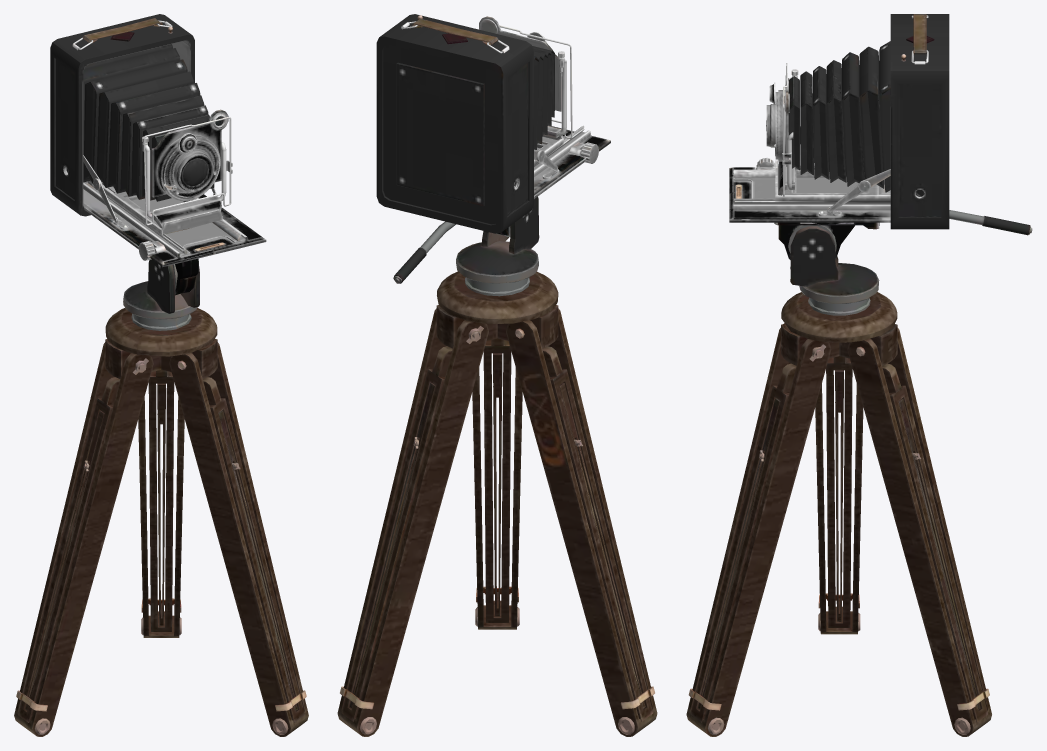
The model's file is camera.glb.
3 views of the same model, side by side, from view 1: azimuth 30°, elevation 25°; view 2: azimuth 150°, elevation 25°; view 3: azimuth 270°, elevation 25° (orthographic). The views are drawn at different scales.
Parts seen in each view (by area): view 1: tripod, camera; view 2: tripod, camera; view 3: tripod, camera.
Part boxes in pixels (x1=…): tripod: x1=14, y1=258, x2=308, y2=736; camera: x1=50, y1=14, x2=266, y2=266; tripod: x1=337, y1=196, x2=657, y2=736; camera: x1=376, y1=14, x2=610, y2=233; tripod: x1=686, y1=210, x2=1032, y2=736; camera: x1=729, y1=14, x2=949, y2=229.
Bounding box in the file's own units: 0.7208 × 2 × 0.9419.
2 materials, 2 textured.
